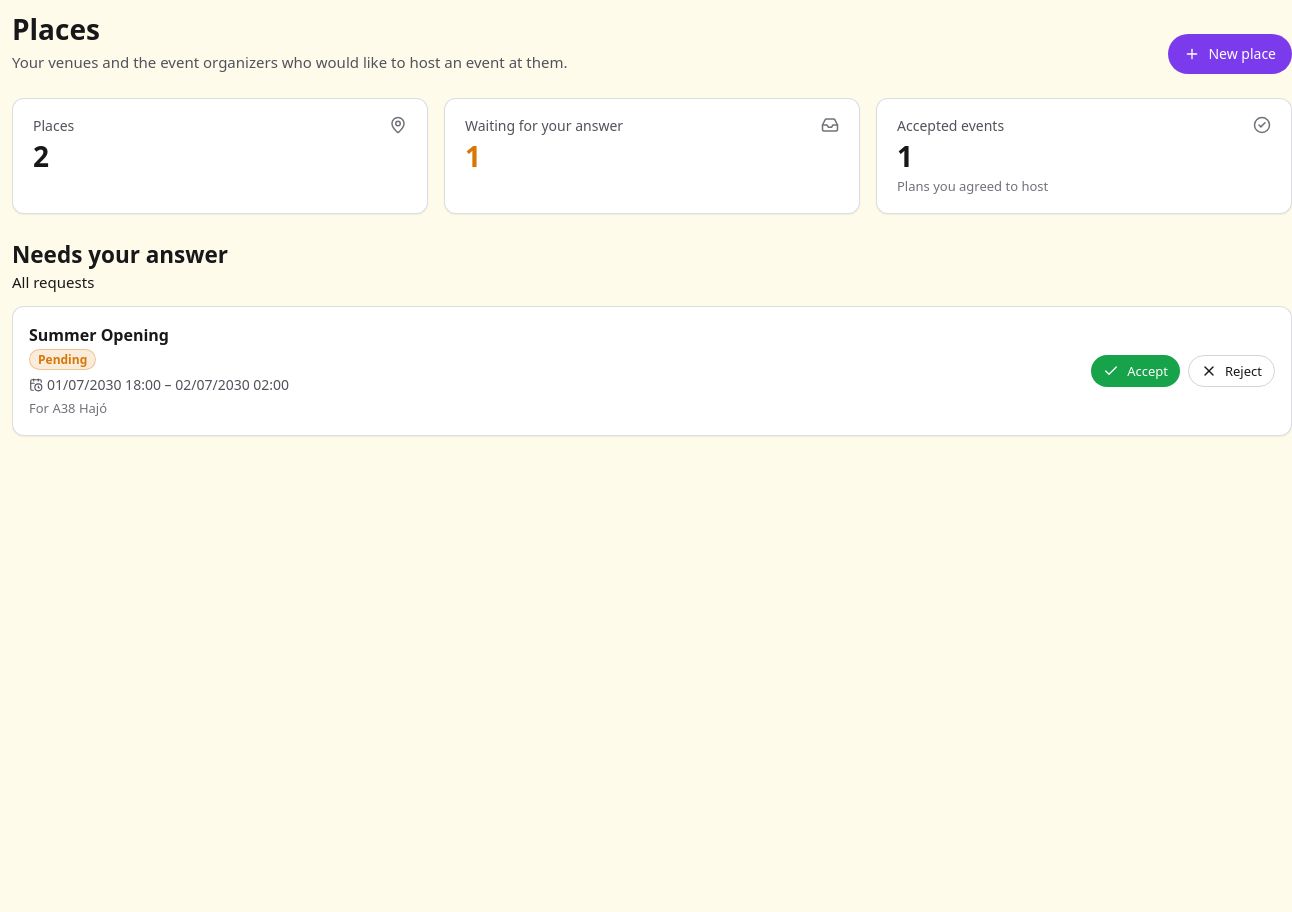
Test: PlacesOverviewPage › counts the places and the requests and lists the pending ones across places
This screenshot has width=1292, height=912.
Expected: the element showing "Accepted events 1 Plans you agreed to host" is shown, top-left (876, 98), bottom-right (1291, 214)
Expected: the heading "Summer Opening" is shown, top-left (29, 324), bottom-right (169, 346)
Click the button with aria-label "Accept Summer Opening for A38 Hajó": (1136, 371) top-left (1091, 355), bottom-right (1180, 387)
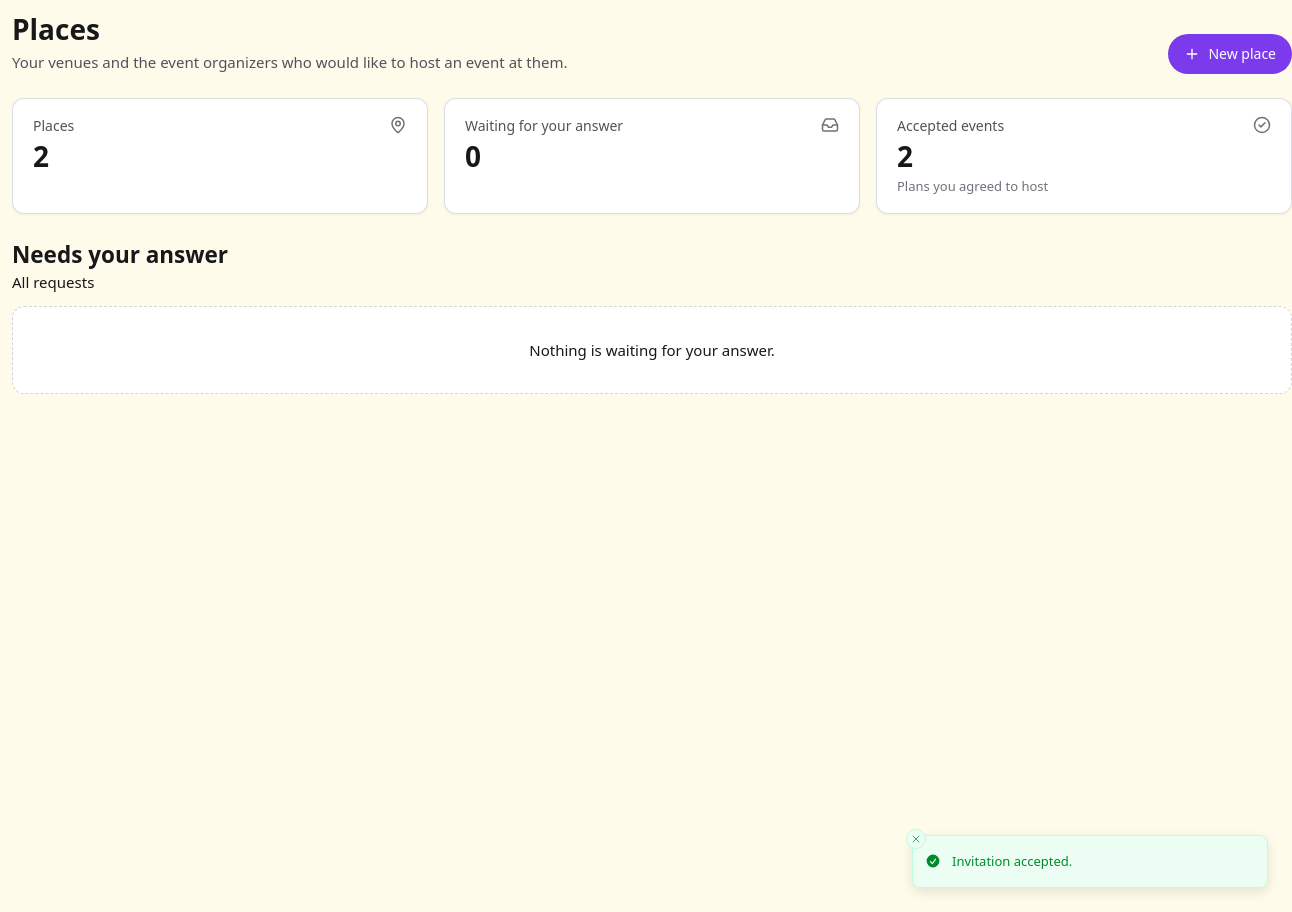
Result: the text "Nothing is waiting for your answer." is shown at top-left (12, 306), bottom-right (1291, 394)
